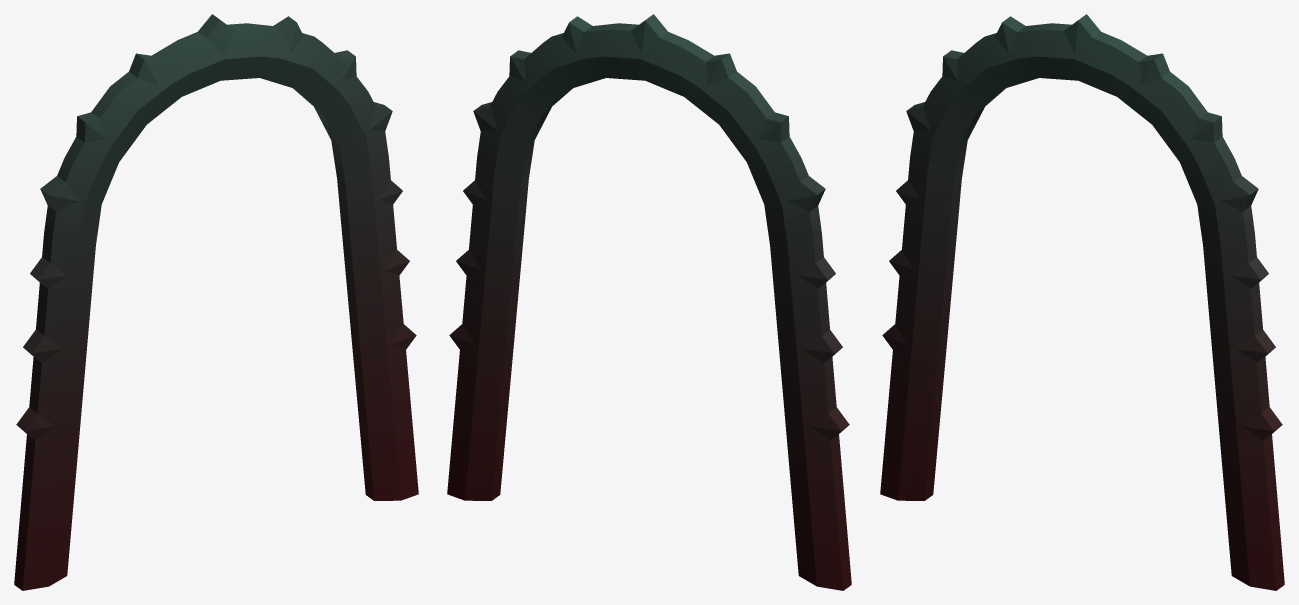
Rendered from SM_Arch_Large_01.fbx.
3 views of the same model, side by side, from view 1: azimuth 30°, elevation 25°; view 2: azimuth 150°, elevation 25°; view 3: azimuth 330°, elevation 25° (orthographic).
Visible parts, largest first — view 1: SM_Arch_Large_01; view 2: SM_Arch_Large_01; view 3: SM_Arch_Large_01.
Part boxes in pixels (bbox=[...]): SM_Arch_Large_01: bbox=[14, 14, 418, 590]; SM_Arch_Large_01: bbox=[447, 14, 851, 590]; SM_Arch_Large_01: bbox=[880, 14, 1284, 590].
Size of the model in its own units: 676 by 851 by 50.
Materials: 1 (1 with a texture image).
